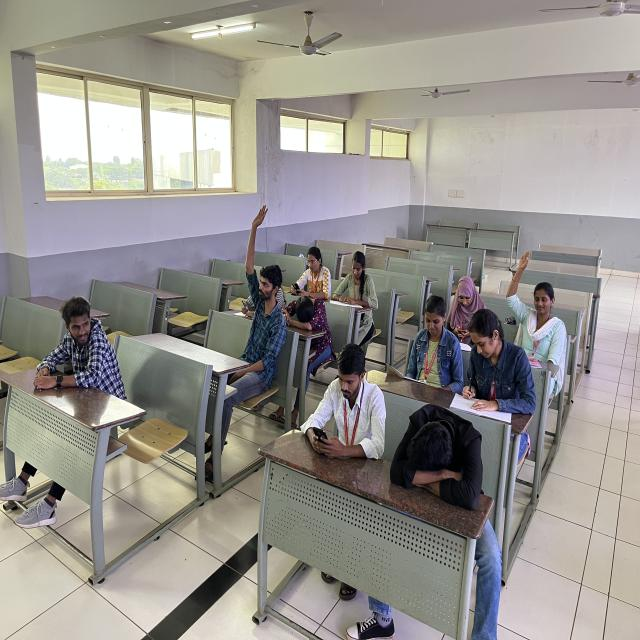Hand Rising: (223, 200, 291, 419), (505, 245, 573, 362)
Reading: (382, 297, 466, 394), (329, 216, 390, 328)
Sleeping: (390, 399, 506, 540), (282, 286, 333, 354)
Using Phone: (298, 334, 393, 465), (448, 269, 500, 339), (286, 235, 340, 296)
Writing: (456, 307, 539, 429)
